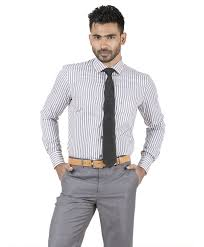F_belt: (62, 152, 138, 170)
F_dress pants: (48, 164, 139, 247)
F_shirt: (37, 56, 167, 174)
F_tie: (99, 67, 119, 169)
